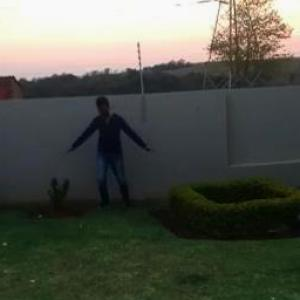land: (62, 90, 154, 218)
